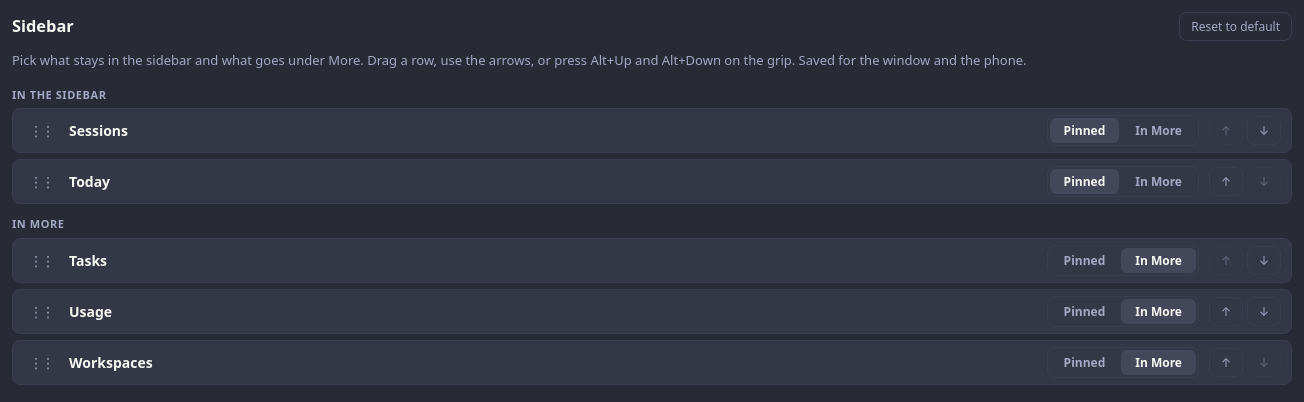
Test: moving a pinned row under More saves it, but the last pinned row cannot leave the sidebar
The width and height of the screenshot is (1304, 402).
Click the radio button labelled "In More" in the row of "Today": (1159, 182) [1121,169,1196,194]
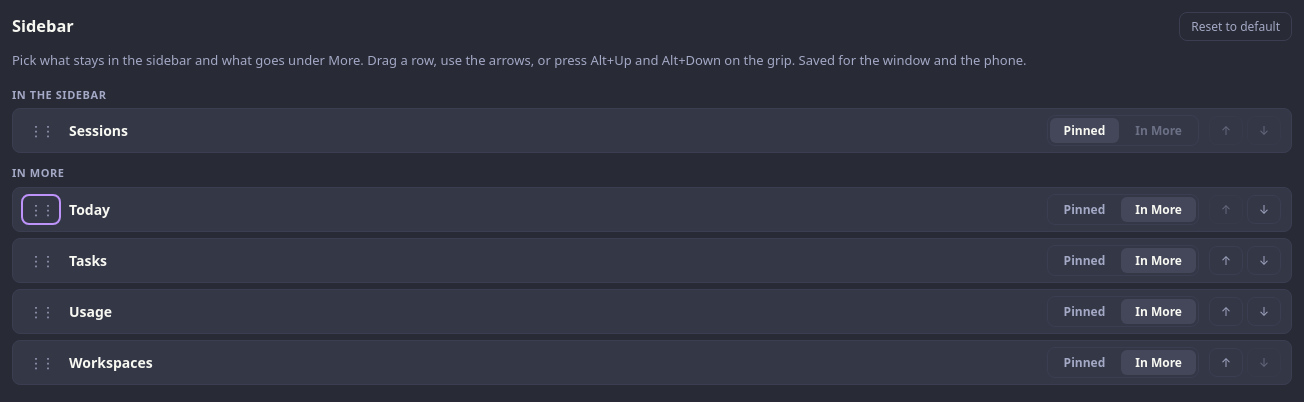
Expected: the radio button labelled "In More" in the row of "Sessions" is disabled, [1121,118,1196,143]
